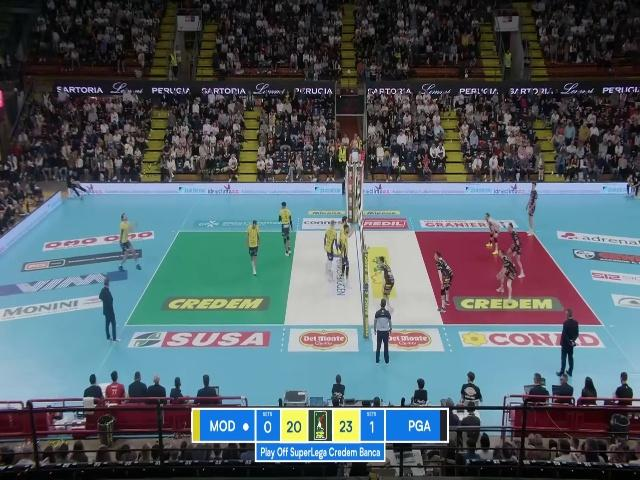volleyball court: (126, 232, 602, 326)
